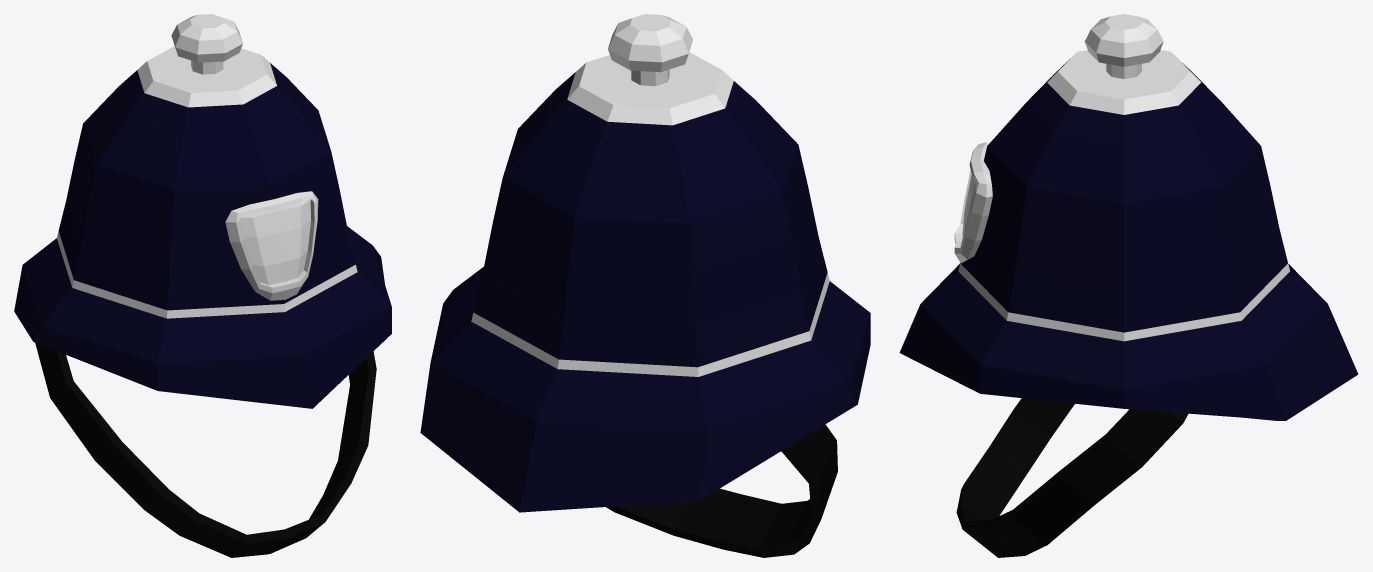
The model's file is Police Hat.fbx.
3 renders of one model, left to right at view 1: azimuth 30°, elevation 25°; view 2: azimuth 150°, elevation 25°; view 3: azimuth 270°, elevation 25°, orthographic. The views are drawn at different scales.
Visible parts, largest first — view 1: Cylinder; view 2: Cylinder; view 3: Cylinder.
Part boxes in pixels (<box>): Cylinder: <box>14,14,391,557</box>; Cylinder: <box>420,14,870,557</box>; Cylinder: <box>899,14,1358,557</box>.
Bounding box in the file's own units: 647 × 866 × 693.
